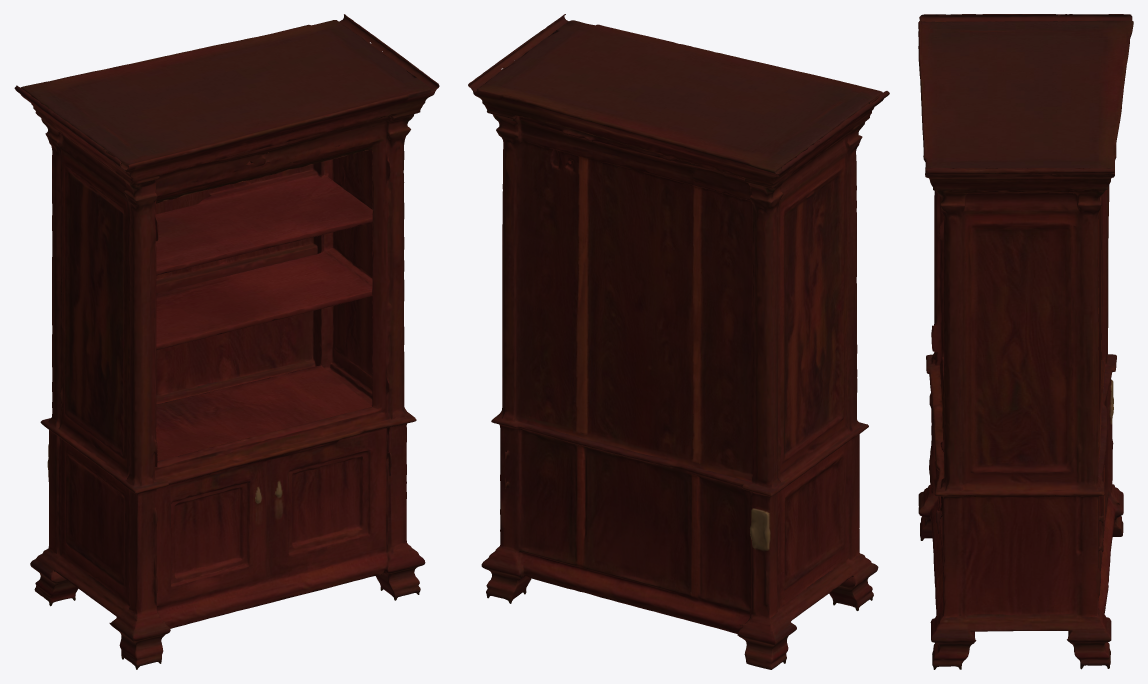
Rendered from victorian-cabinet-mv-quest.glb.
The picture shows the model from 3 angles, left to right: view 1: azimuth 30°, elevation 25°; view 2: azimuth 150°, elevation 25°; view 3: azimuth 270°, elevation 25°; orthographic projection.
Parts seen in each view (by area): view 1: grandfather_clock; view 2: grandfather_clock; view 3: grandfather_clock.
Part boxes in pixels (<box>): grandfather_clock: <box>14,14,439,669</box>; grandfather_clock: <box>468,14,889,669</box>; grandfather_clock: <box>918,14,1133,669</box>.
Size of the model in its own units: 1.32 by 2 by 0.7664.
1 material, 1 textured.
